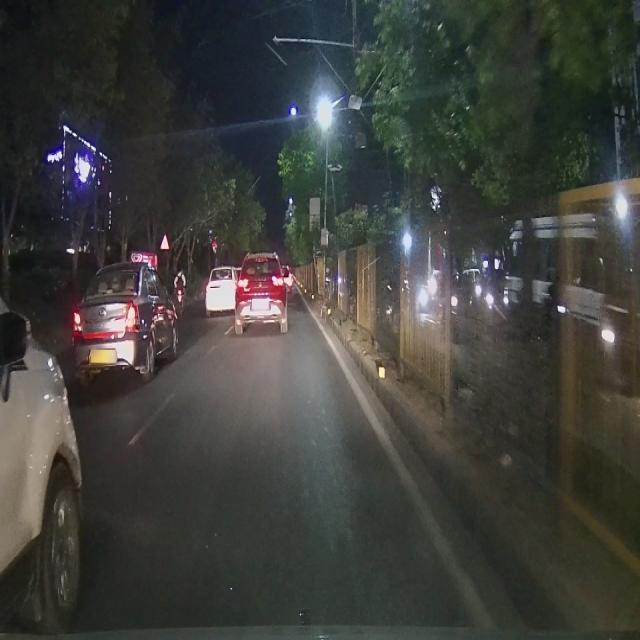car ahead at: (75, 260, 178, 380), (234, 253, 290, 337)
